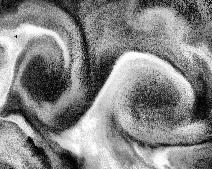AE: (94, 50, 199, 139), (8, 24, 76, 112)
